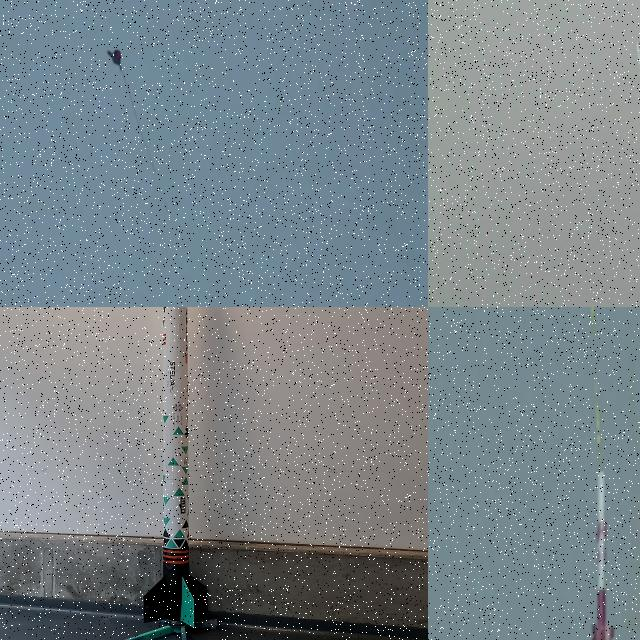Rocket: (143, 307, 208, 629), (589, 471, 615, 640)
